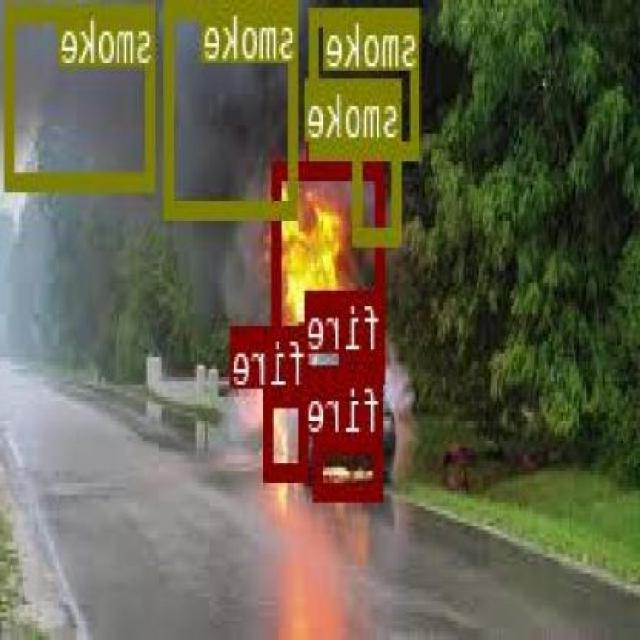fire: (274, 159, 386, 379), (316, 434, 384, 500), (265, 386, 310, 477), (342, 349, 384, 400)
smoke: (168, 0, 301, 215), (8, 3, 157, 186), (312, 5, 421, 154), (354, 141, 404, 242)
